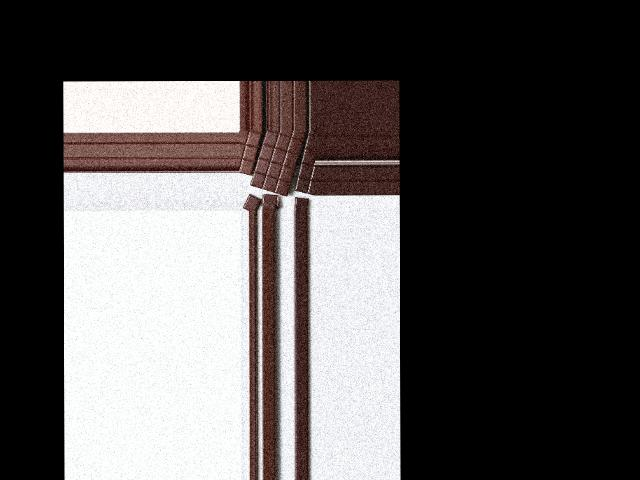chocolate: (248, 129, 304, 195)
